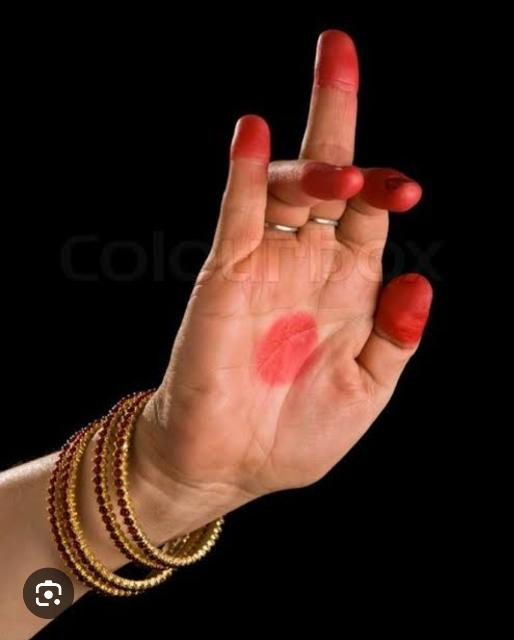shuktund: (147, 32, 431, 493)
